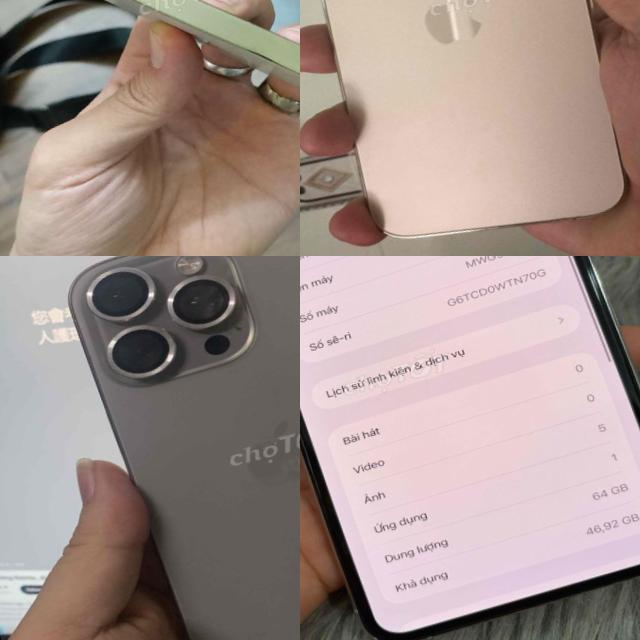gen_11: (300, 256, 640, 640)
gen_12_13: (300, 0, 640, 256), (0, 0, 300, 255)
gen_15: (56, 256, 300, 640)
